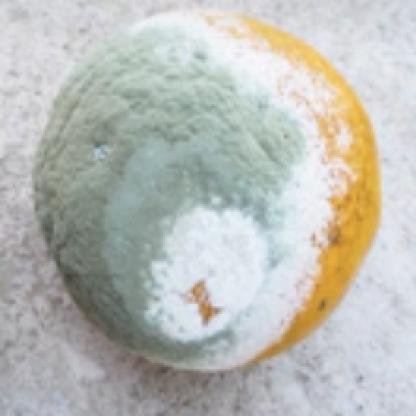rotten: (24, 11, 384, 374)
